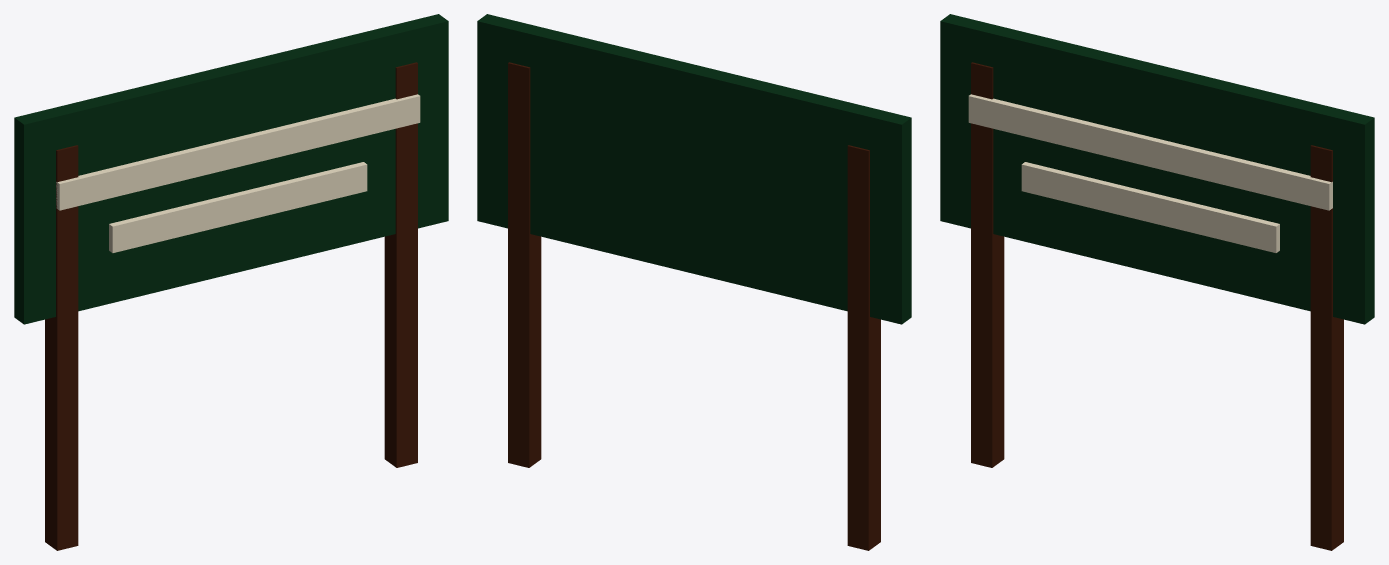
File: park_sign.obj
The picture shows the model from 3 angles, left to right: view 1: azimuth 30°, elevation 25°; view 2: azimuth 150°, elevation 25°; view 3: azimuth 330°, elevation 25°; orthographic projection.
Visible parts, largest first — view 1: park_sign; view 2: park_sign; view 3: park_sign.
Boxes of the visible parts, left/top/right/bottom form: park_sign: left=14, top=14, right=448, bottom=550; park_sign: left=477, top=14, right=911, bottom=550; park_sign: left=940, top=14, right=1374, bottom=550.
Size of the model in its own units: 2 by 1.95 by 0.12.
